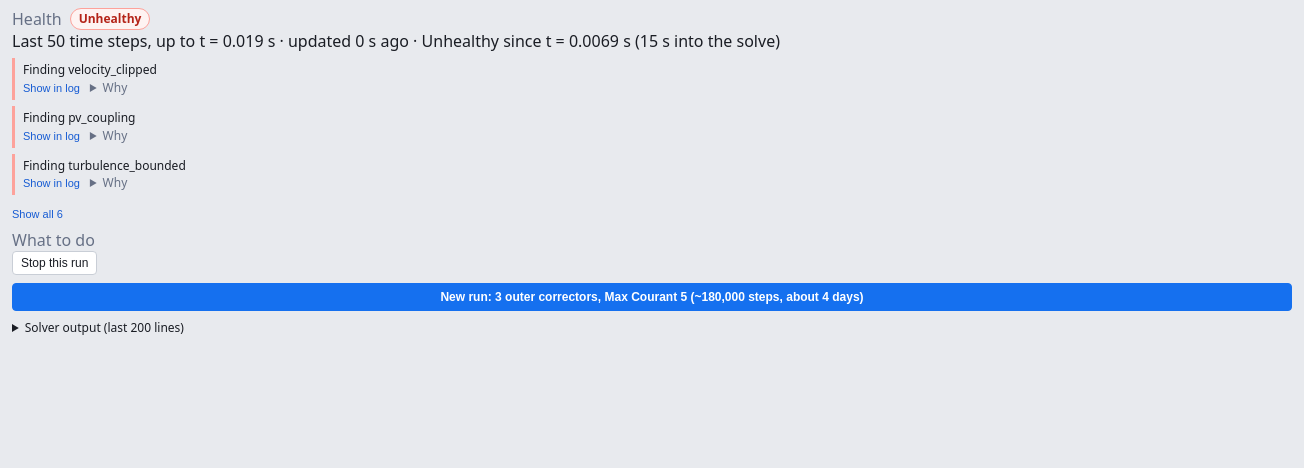
the Health block › the verdict, its title, the subline with the onset, three findings then "Show all 6"
The width and height of the screenshot is (1304, 468).
Check: the text "Unhealthy" is shown, box [70,8,150,30]
Check: the number of list items is 3, box [12,58,1292,100]; [12,106,1292,148]; [12,154,1292,195]
Click the button "Show all 6".
click(37, 214)  # box [12,208,63,220]
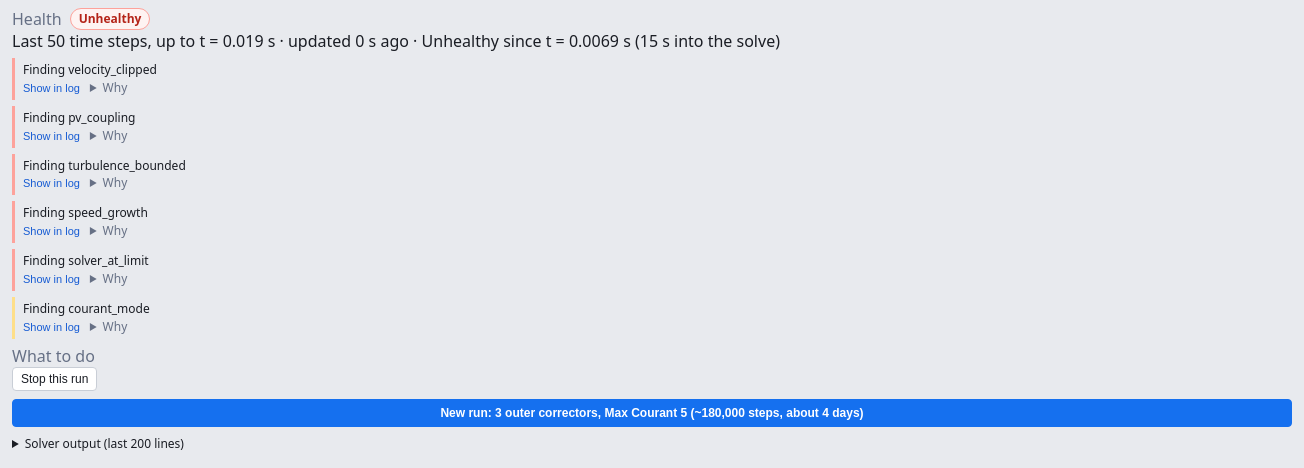
Check: the text "Finding velocity_clipped" is shown, box [23,61,157,78]
Check: the number of list items is 6, box [12,58,1292,100]; [12,106,1292,148]; [12,154,1292,195]; [12,201,1292,243]; [12,249,1292,291]; [12,297,1292,339]
